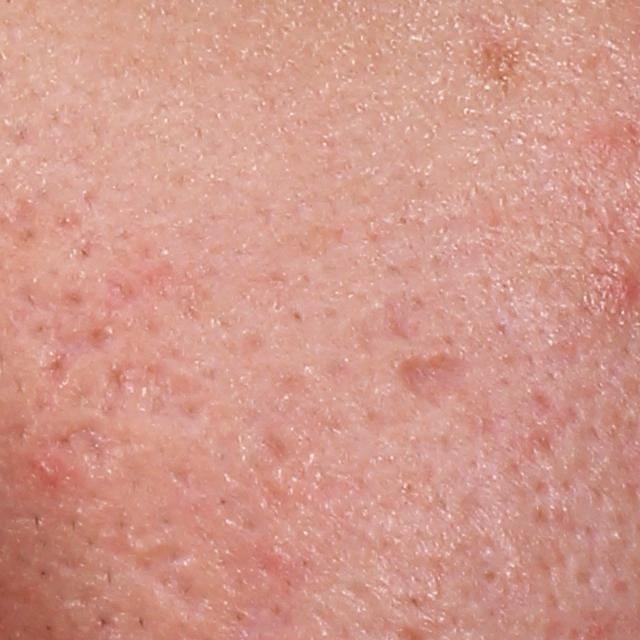atrophic_scar: (396, 346, 470, 408)
papule: (30, 449, 69, 489)
